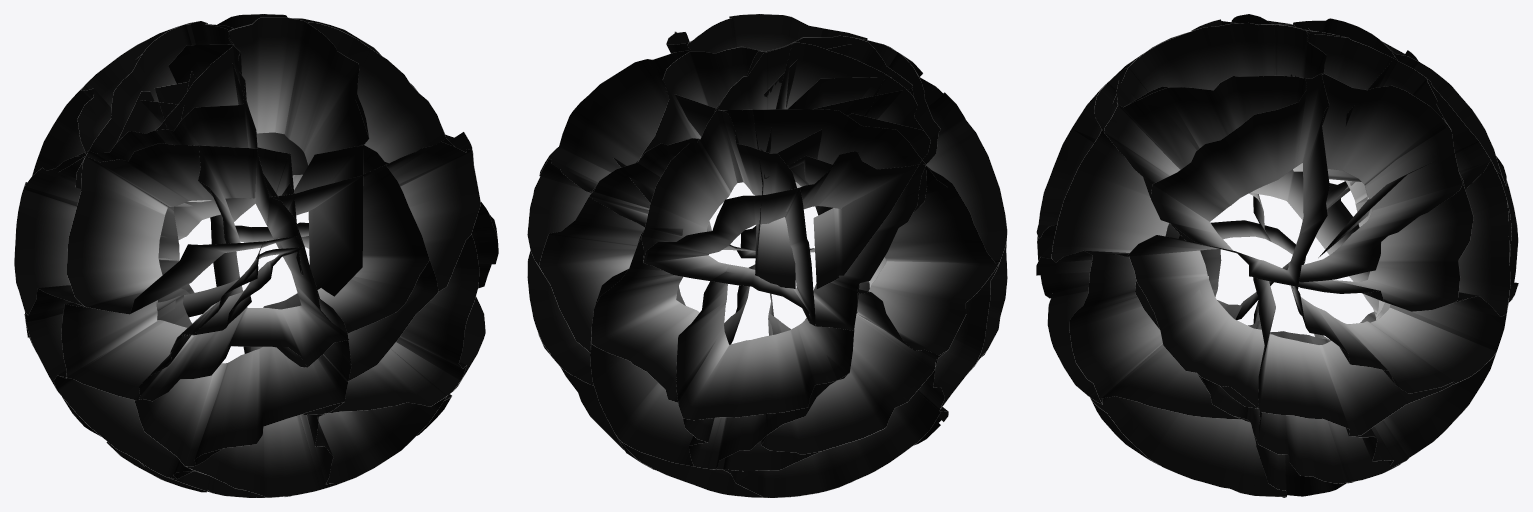
Rendered from lieguang_1.FBX.
3 views of the same model, side by side, from view 1: azimuth 30°, elevation 25°; view 2: azimuth 150°, elevation 25°; view 3: azimuth 270°, elevation 25° (orthographic).
Parts seen in each view (by area): view 1: lieguang_1; view 2: lieguang_1; view 3: lieguang_1.
Part boxes in pixels (x1=…): lieguang_1: x1=14, y1=14, x2=498, y2=497; lieguang_1: x1=527, y1=14, x2=1007, y2=497; lieguang_1: x1=1036, y1=14, x2=1518, y2=497.
Bounding box in the file's own units: 207 × 206 × 206.
